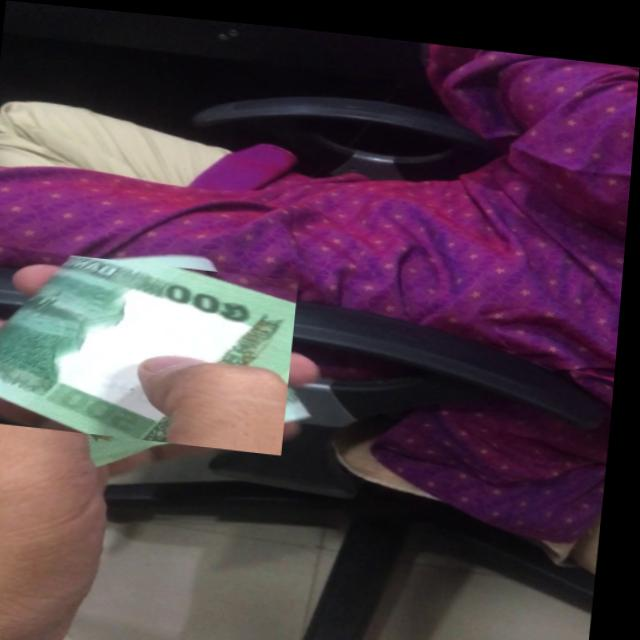Taka: (0, 246, 302, 449)
